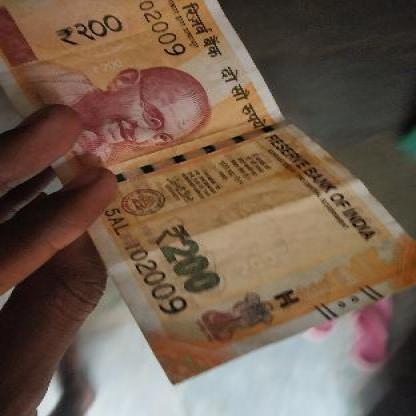New200Front: (0, 0, 415, 383)
